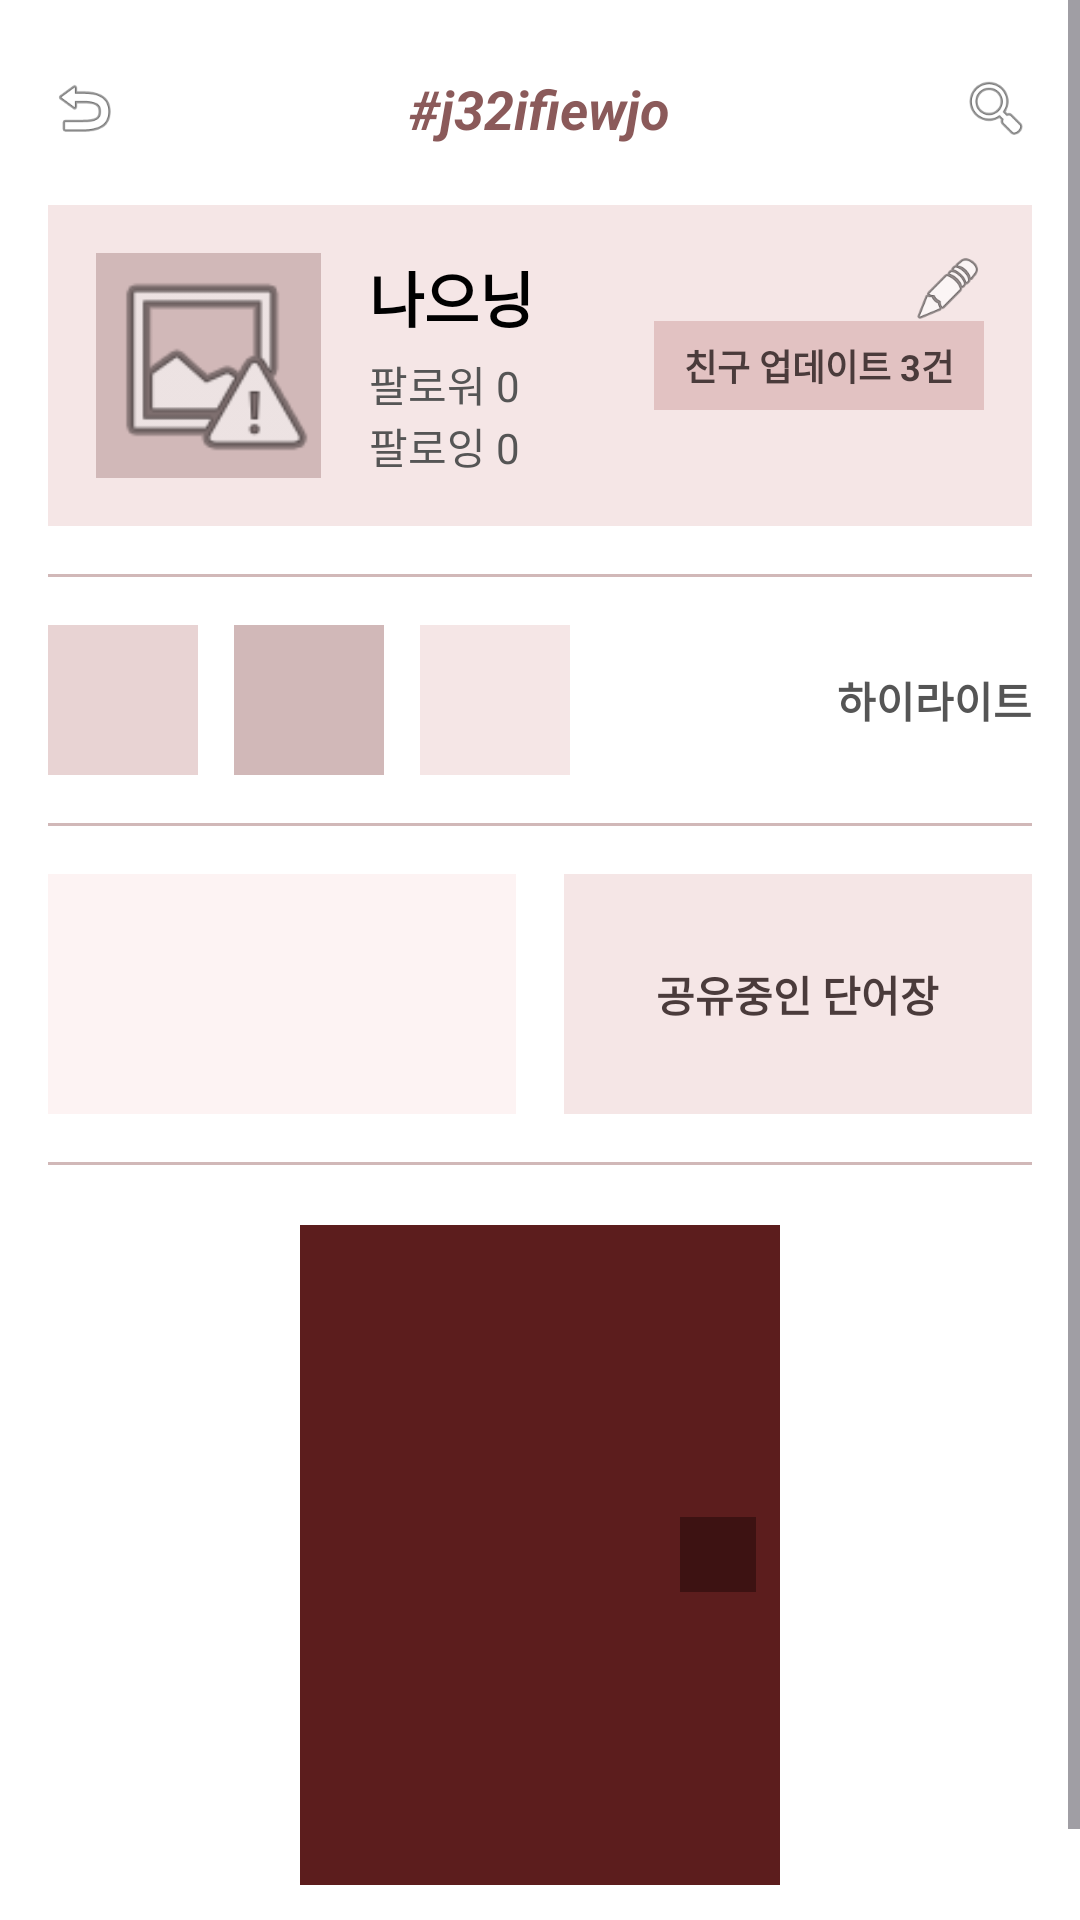

Named icons in this screenshot (1080w x 1920h) and their centers, (x=x, y=y):
뒤로가기: (x=85, y=108)
친구검색: (x=996, y=108)
프로필수정: (x=947, y=288)
